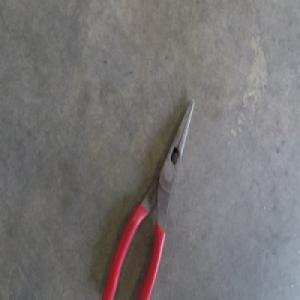Pliers: (105, 101, 195, 298)
